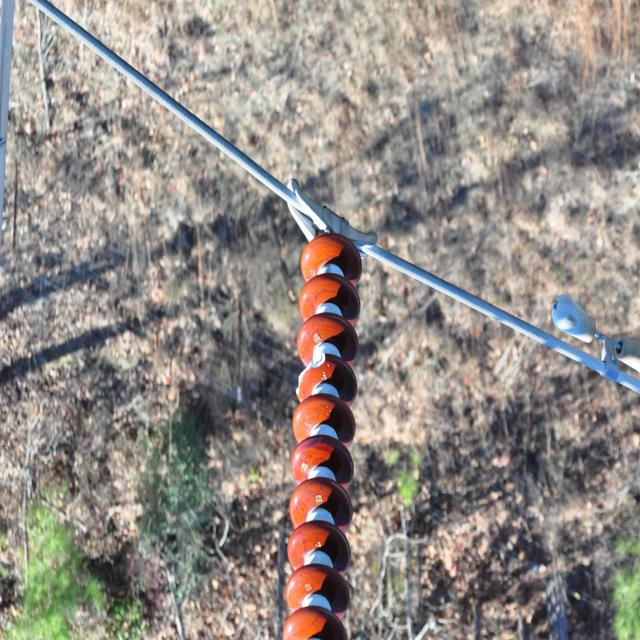broken: (294, 347, 331, 396)
insulator: (283, 233, 361, 639)
